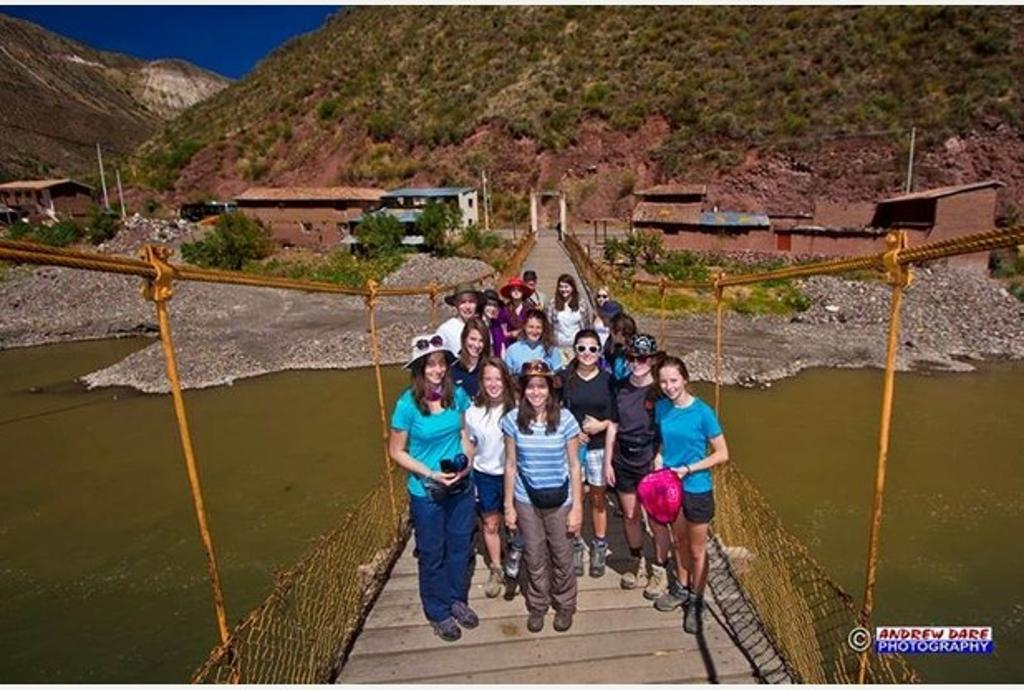face: (483, 366, 506, 398), (660, 367, 683, 399), (526, 376, 550, 406), (423, 354, 446, 384), (577, 337, 599, 366), (628, 351, 651, 376), (465, 331, 485, 357), (458, 294, 476, 317), (526, 320, 542, 341), (485, 298, 499, 319), (559, 281, 573, 297), (597, 291, 609, 308), (512, 286, 523, 299), (526, 277, 537, 290)
